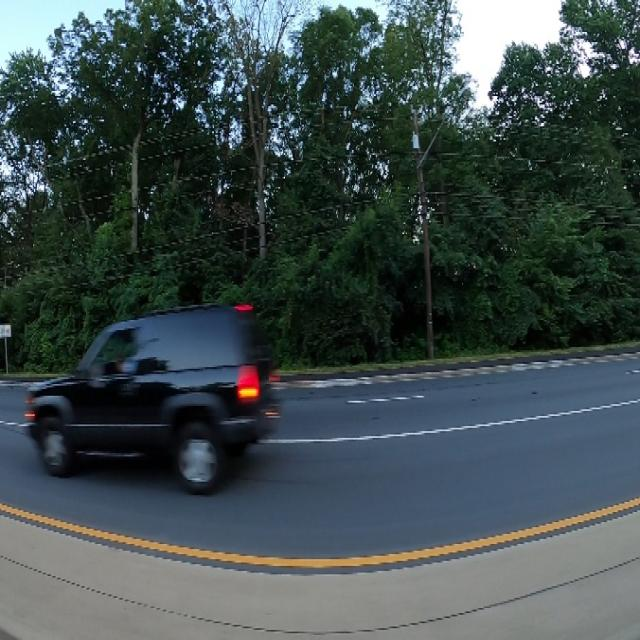car: (21, 280, 292, 510)
